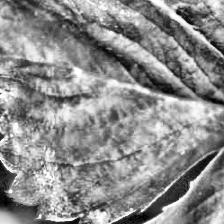Powdery Mildew Leaf: (0, 0, 224, 224), (79, 130, 224, 224)
